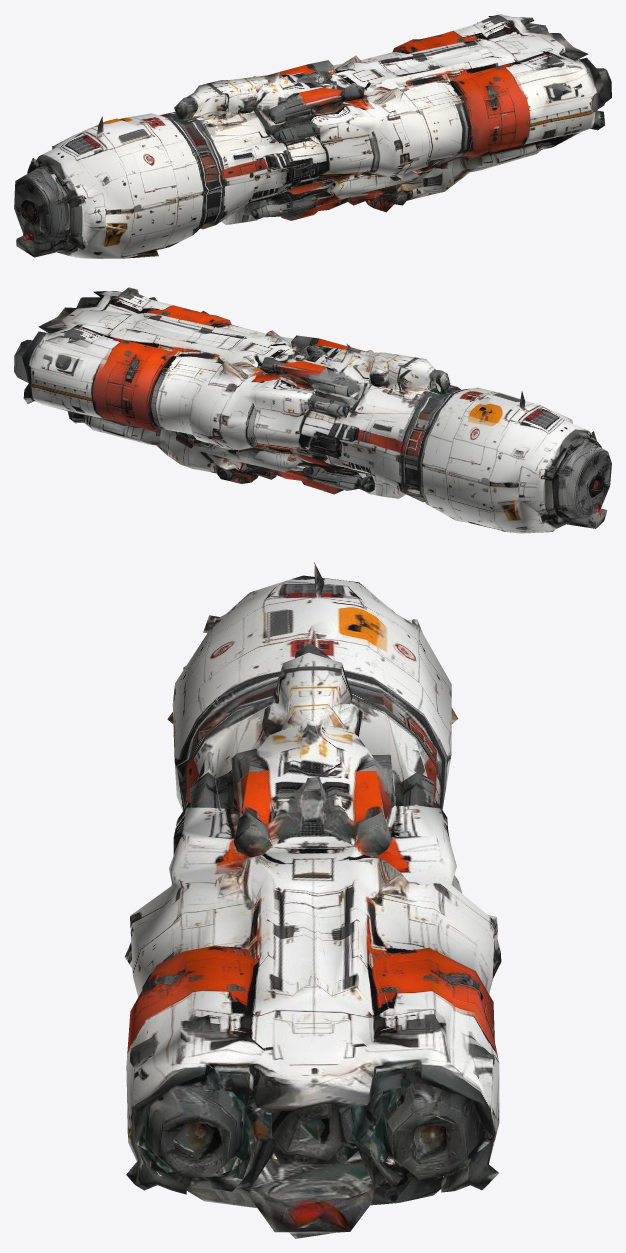
The model's file is warp_large_cargo.glb.
3 views of the same model, one above another, from view 1: azimuth 30°, elevation 25°; view 2: azimuth 150°, elevation 25°; view 3: azimuth 270°, elevation 25° (orthographic). The views are drawn at different scales.
Visible parts, largest first — view 1: Mesh_0; view 2: Mesh_0; view 3: Mesh_0.
Part boxes in pixels (box(x1,y1,x2,y2)): Mesh_0: box(14, 14, 611, 258); Mesh_0: box(14, 287, 611, 533); Mesh_0: box(125, 562, 501, 1238).
Bounding box in the file's own units: 1.89 × 0.4835 × 0.5572.
Materials: 1 (1 with a texture image).
